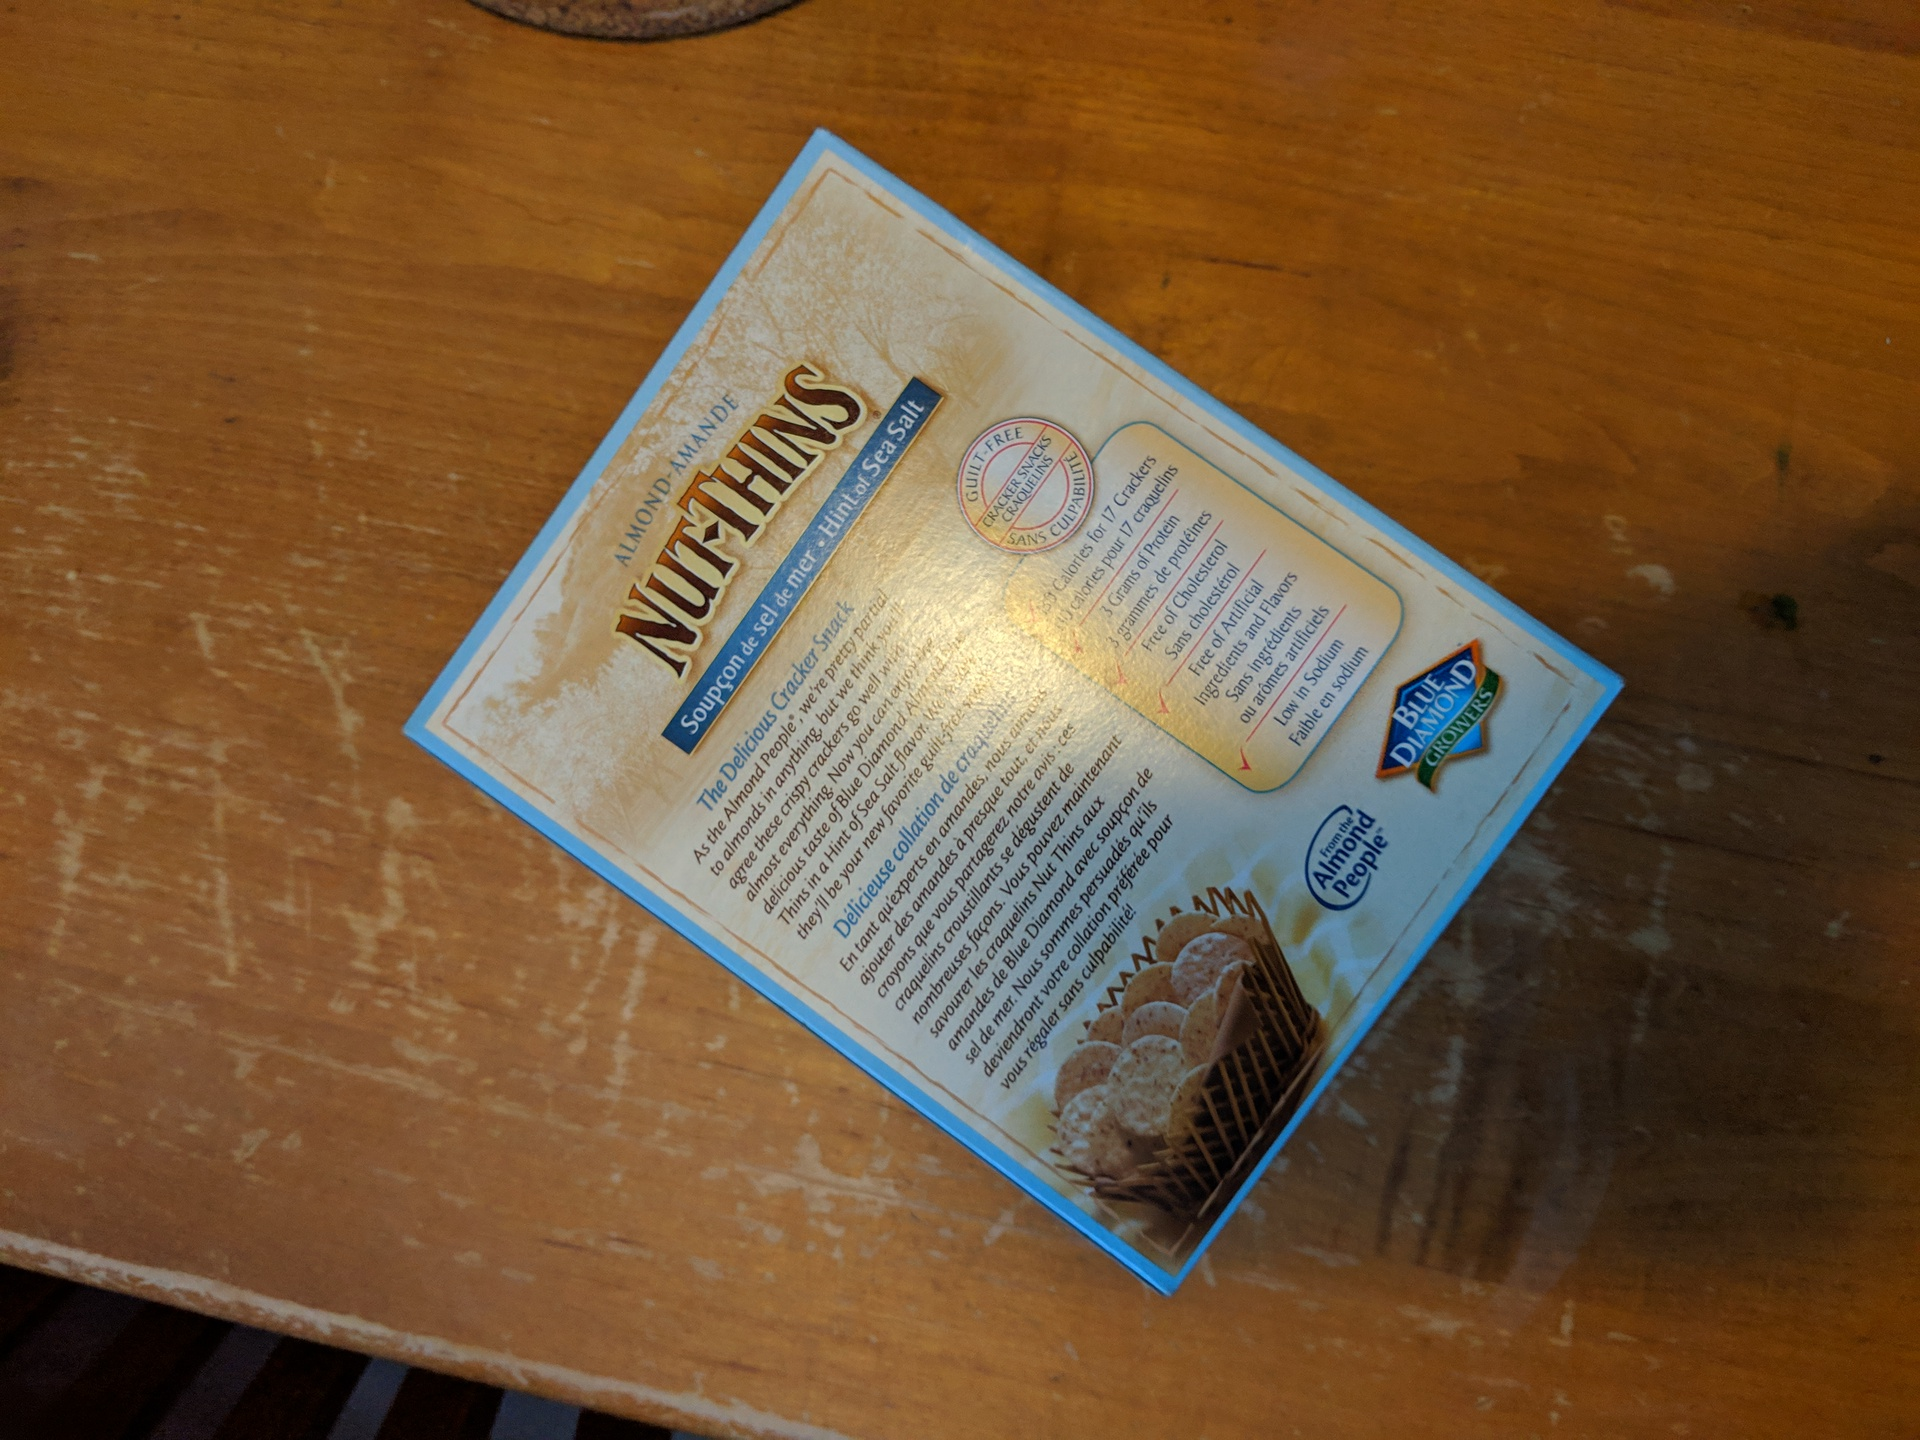blue_diamond_nut_thins_almond_seasalt: (484, 204, 1534, 1131)
